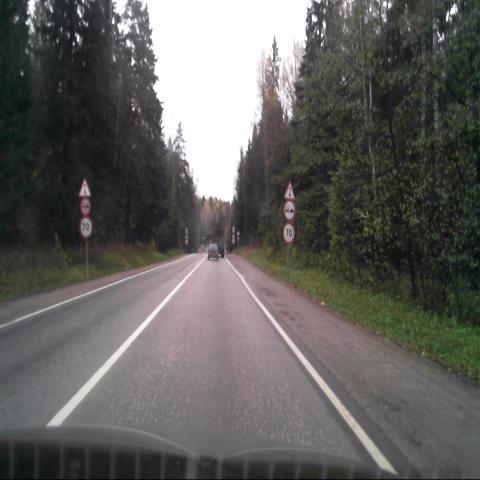1_8: (284, 181, 295, 200), (79, 178, 90, 197)
3_20: (283, 200, 295, 220), (80, 198, 90, 215)
3_24: (80, 217, 92, 237), (282, 223, 294, 242)
